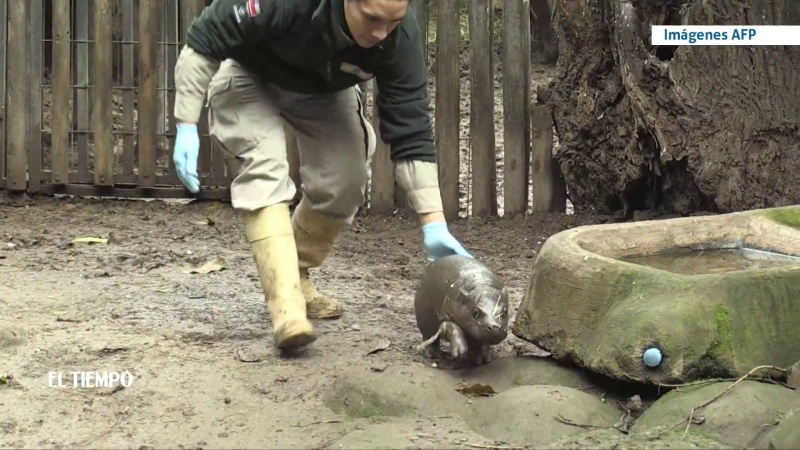hipopotamo: (401, 243, 530, 377)
